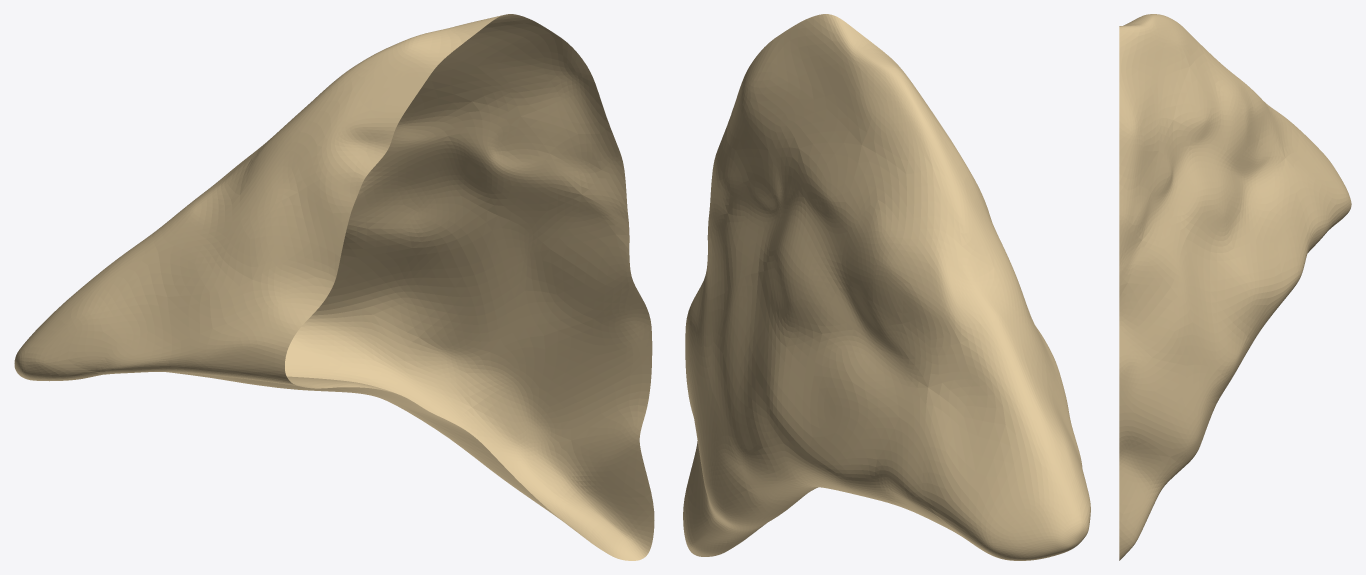
The model's file is surrene_interno.glb.
The picture shows the model from 3 angles, left to right: view 1: azimuth 30°, elevation 25°; view 2: azimuth 150°, elevation 25°; view 3: azimuth 270°, elevation 25°; orthographic projection. The views are drawn at different scales.
Visible parts, largest first — view 1: right adrenal gland; view 2: right adrenal gland; view 3: right adrenal gland.
Part boxes in pixels (x1,y1,x2,y2): right adrenal gland: (14,14,654,560); right adrenal gland: (683,14,1090,560); right adrenal gland: (1119,14,1351,560).
Size of the model in its own units: 29.04 by 30.84 by 13.59.
